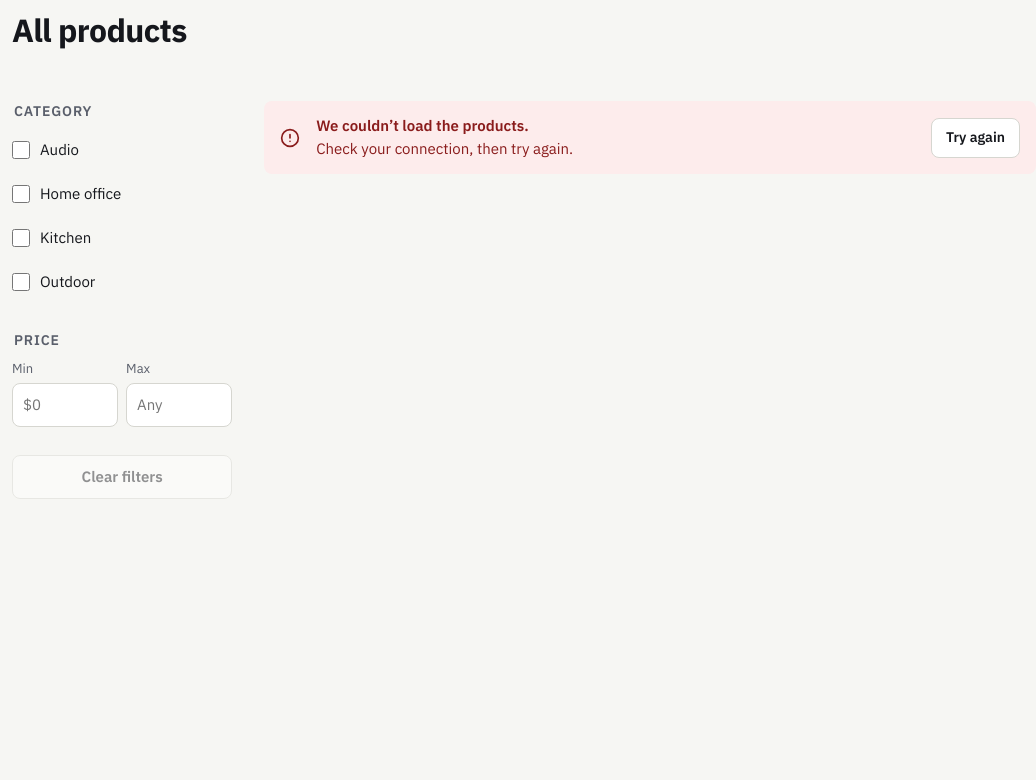
Scenario: CatalogPage › shows an error with a retry when the products fail to load
The width and height of the screenshot is (1036, 780).
Expected: the message shows "We couldn’t load the products.", [316,116,529,135]
Click the button "Try again" at [975, 138], box [931,118,1020,158]
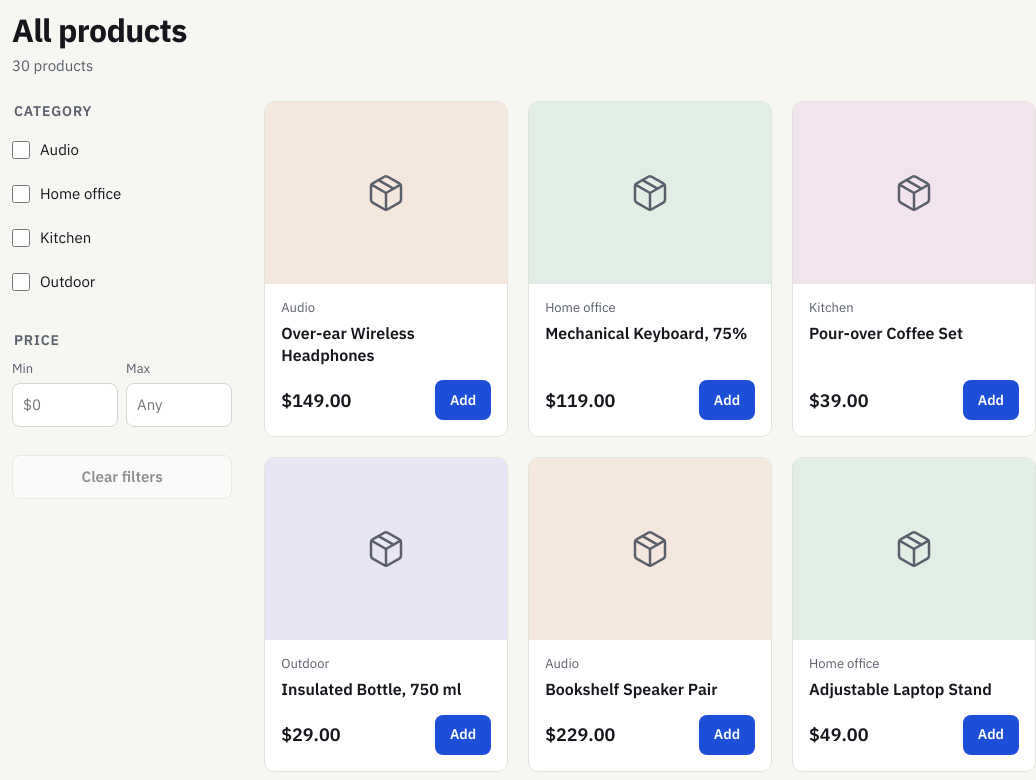
Expected: the text "30 products" is shown, [12,56,93,75]
